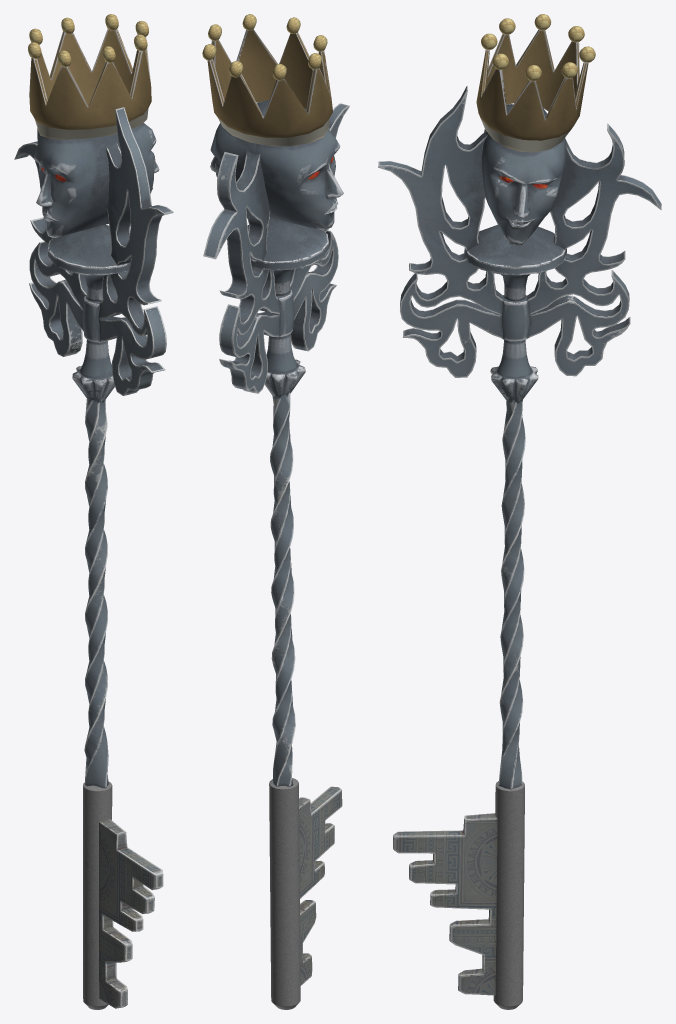
File: Queen_white.obj
3 views of the same model, side by side, from view 1: azimuth 30°, elevation 25°; view 2: azimuth 150°, elevation 25°; view 3: azimuth 270°, elevation 25° (orthographic).
Visible parts, largest first — view 1: kingkey; view 2: kingkey; view 3: kingkey.
Boxes of the visible parts, x1,y1,x2,y2 form: kingkey: (14,14,173,1009); kingkey: (202,14,349,1009); kingkey: (378,14,661,1009).
Size of the model in its own units: 0.2904 by 2.13 by 0.5633.
